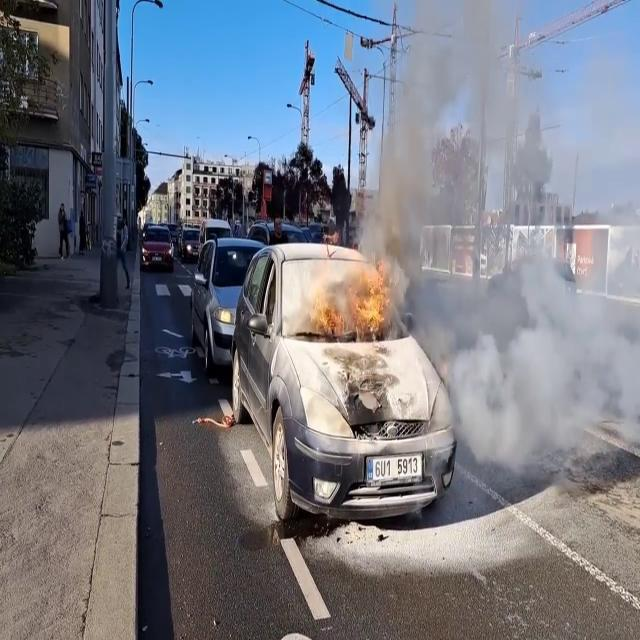Fire: (316, 261, 401, 339)
Smoke: (367, 9, 640, 462)
